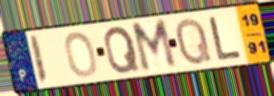I: (28, 33, 50, 86)
L: (208, 15, 244, 62)
M: (129, 17, 180, 75)
O: (63, 30, 99, 79)
Q: (102, 24, 142, 76), (174, 16, 214, 67)
